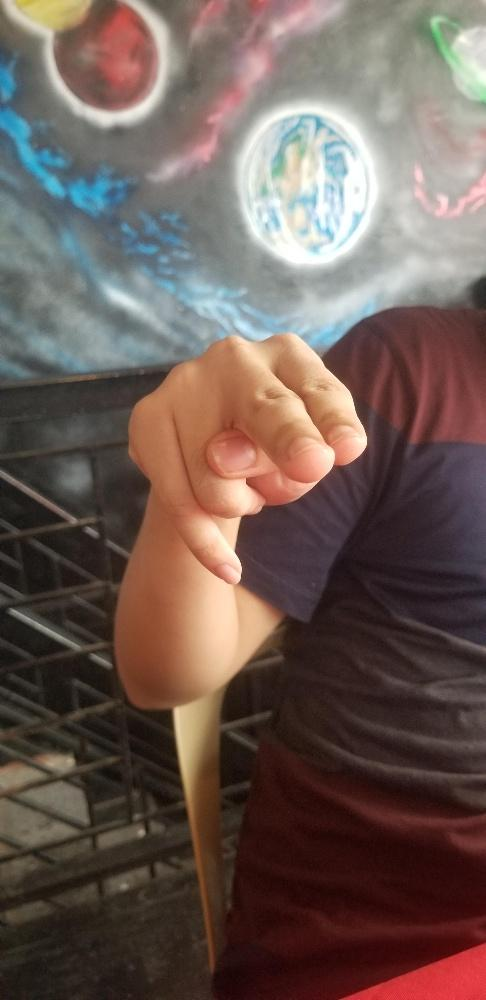n: (124, 329, 367, 585)
